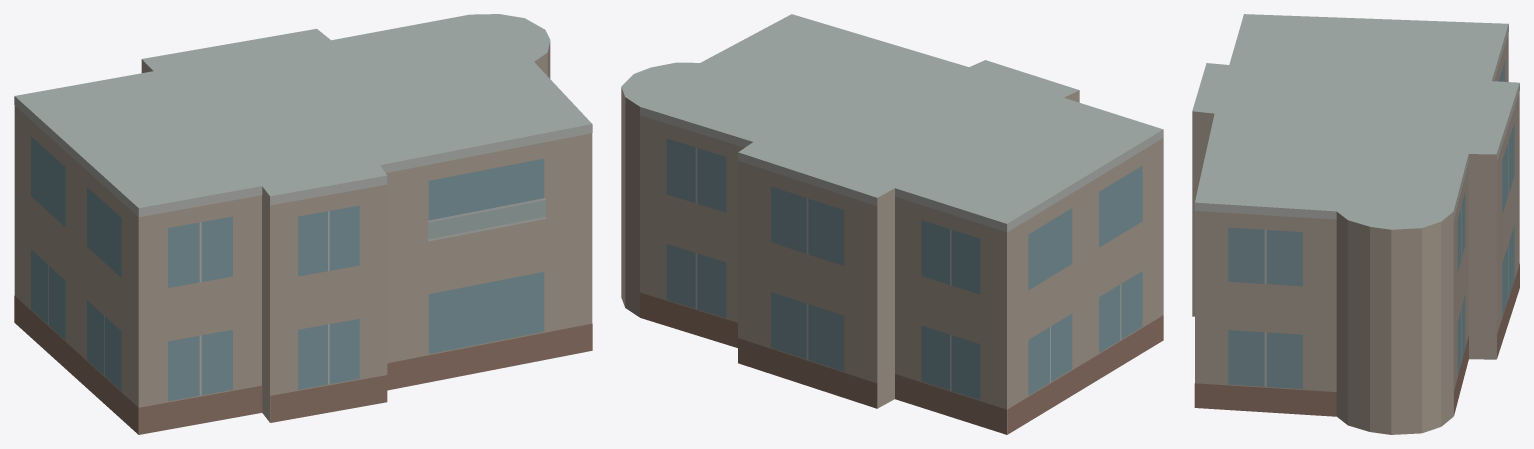
Rendered from survey-upis-32916463.glb.
3 views of the same model, side by side, from view 1: azimuth 30°, elevation 25°; view 2: azimuth 150°, elevation 25°; view 3: azimuth 270°, elevation 25° (orthographic). The views are drawn at different scales.
Visible parts, largest first — view 1: survey-upis-32916463.tmp; view 2: survey-upis-32916463.tmp; view 3: survey-upis-32916463.tmp.
Part boxes in pixels (x1=…): survey-upis-32916463.tmp: x1=14, y1=14, x2=592, y2=434; survey-upis-32916463.tmp: x1=621, y1=14, x2=1163, y2=434; survey-upis-32916463.tmp: x1=1192, y1=14, x2=1519, y2=434.
Bounding box in the file's own units: 13.75 × 6.1 × 8.83.
